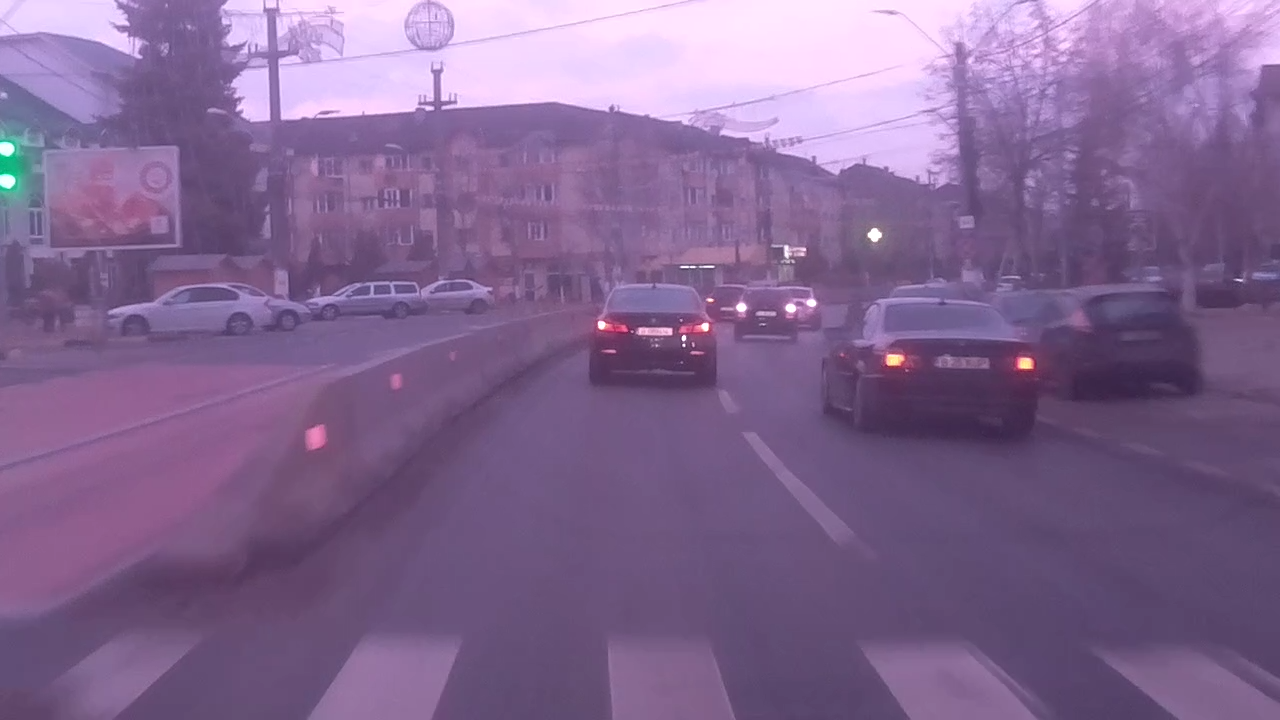license-plate: (932, 353, 992, 370)
